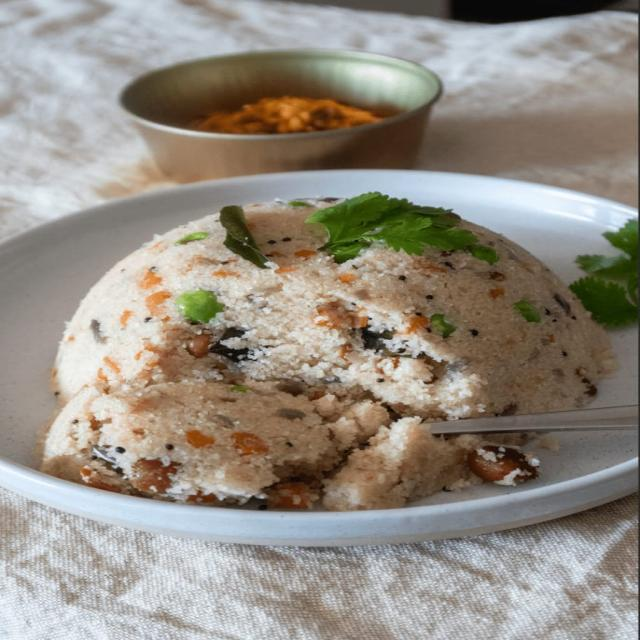upma: (34, 192, 616, 518)
